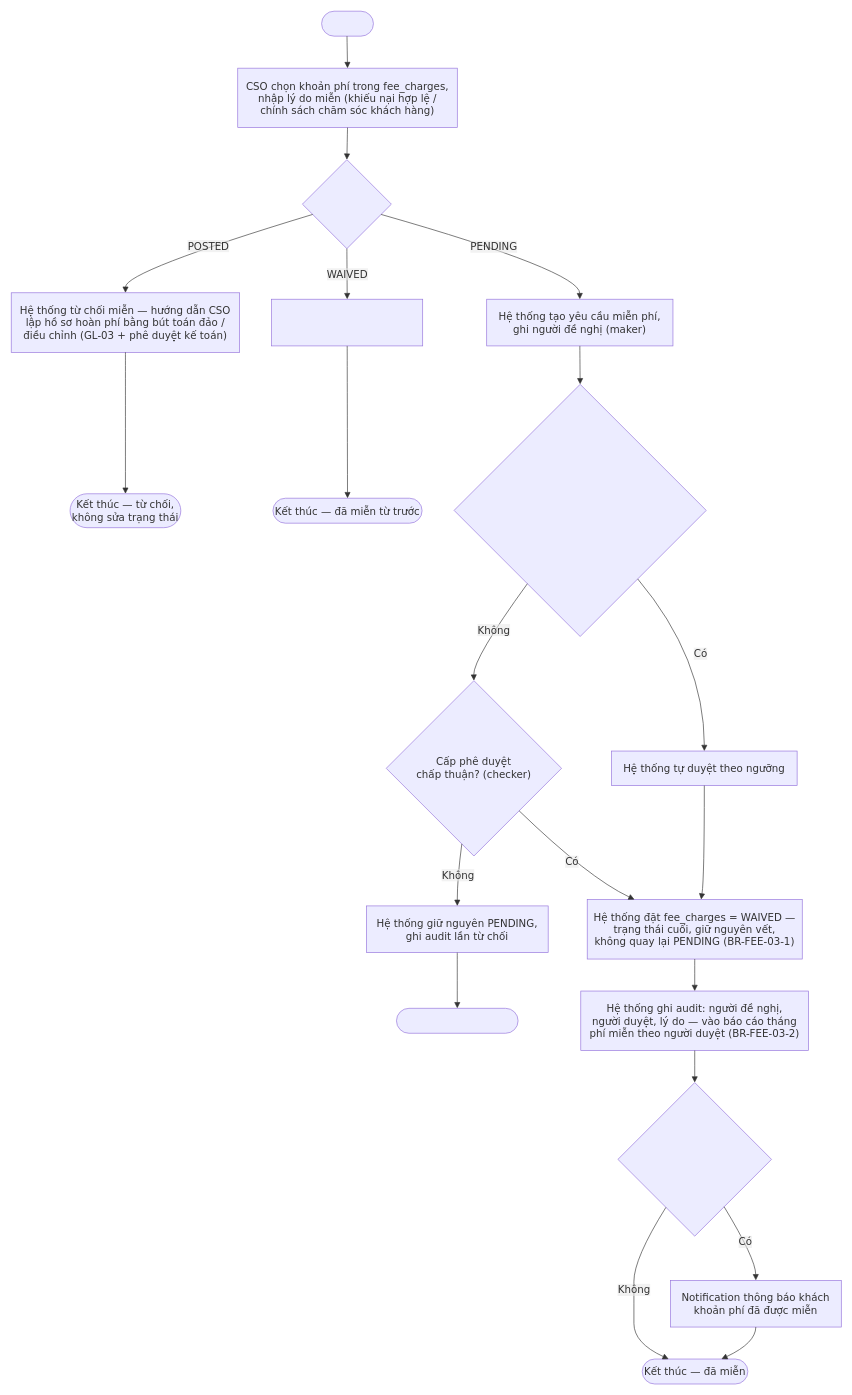
This 852x1395 diagram has some shape labels left out. Each missing label, with the centre of its shape:
"Bắt đầu" goes at [347,23].
"Hệ thống trả kết quả cũ (idempotent — E1b)" goes at [347,322].
"Khoản phí trước đó đã báo nợ khách?" goes at [694,1159].
"Kết thúc — không miễn" goes at [457,1020].
"Trong ngưỡng tự duyệt của CSO? (tham số, mặc định 0 — mọi miễn cần duyệt)" goes at [579,510].
"Trạng thái khoản phí?" goes at [346,204].
